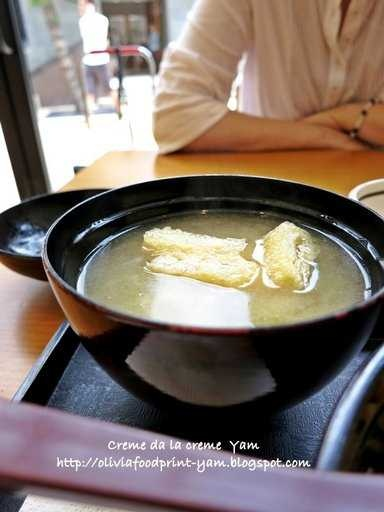soup: (60, 191, 372, 326)
